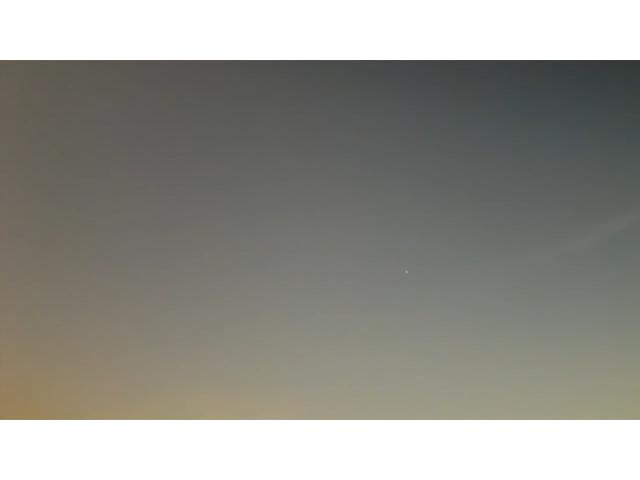Anti-Drone: (398, 263, 420, 279)
